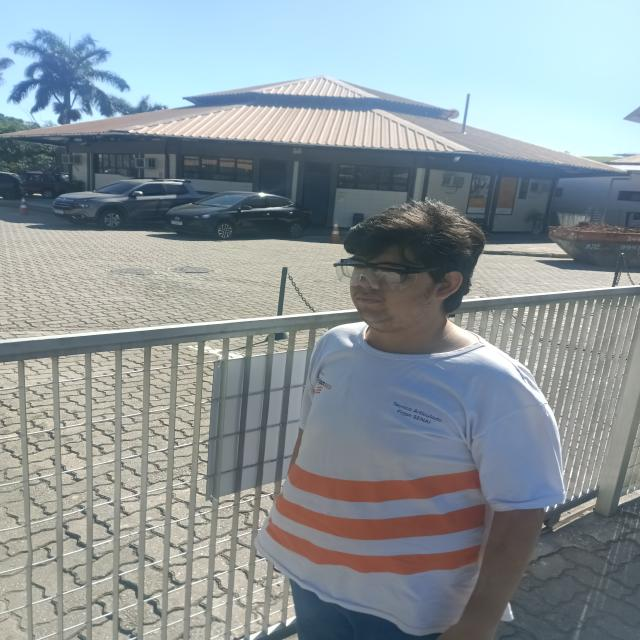oculos-epi: (332, 260, 446, 289)
